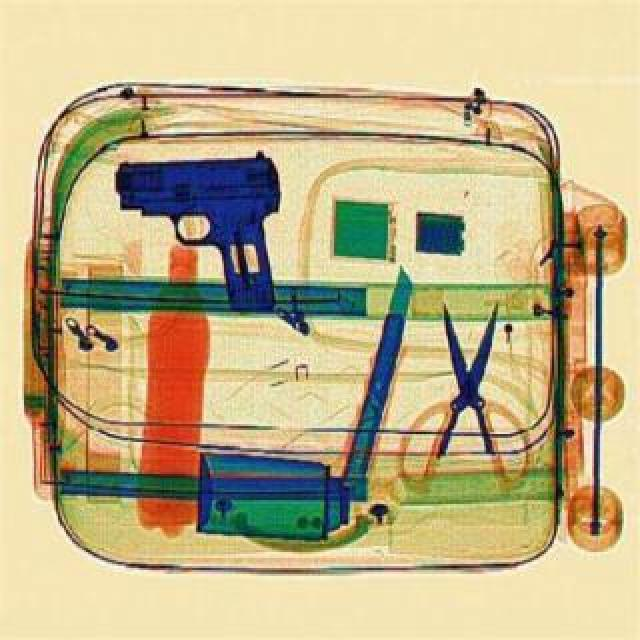gun: (108, 152, 282, 312)
knife: (392, 296, 536, 496)
